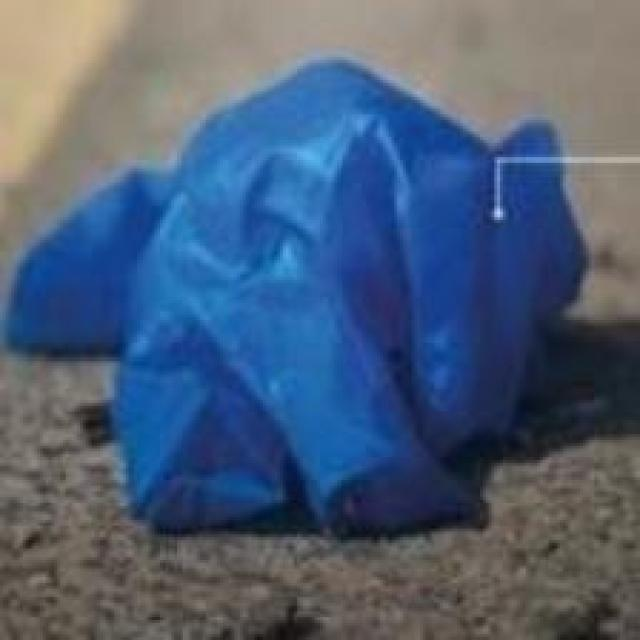Glove: (0, 64, 598, 553)
